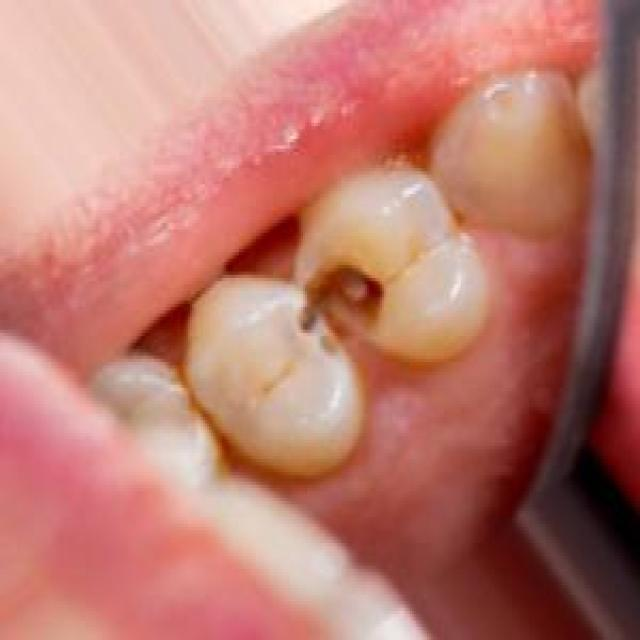caries: (285, 251, 389, 364)
